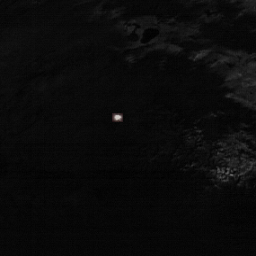Target: (112, 113, 123, 121)
